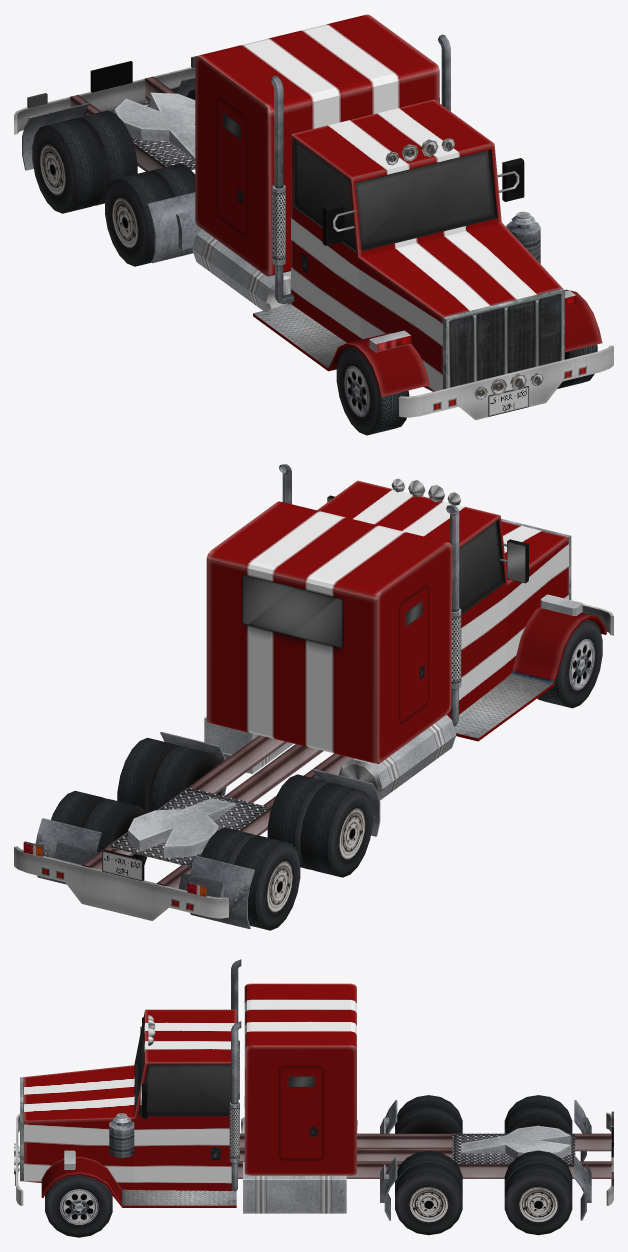
Rendered from empty-truck.fbx.
3 views of the same model, one above another, from view 1: azimuth 30°, elevation 25°; view 2: azimuth 150°, elevation 25°; view 3: azimuth 270°, elevation 25° (orthographic). The views are drawn at different scales.
Parts seen in each view (by area): view 1: body, GLASSES, BACK_RIGHT_TYRES, BACK_RIGHT_MEDDIL_TYRES, FRENT_RIGHT_TYRE; view 2: body, BACK_RIGHT_MEDDIL_TYRES, BACK_RIGHT_TYRES, BACK_LEFT_MEDDIL_TYRES, FRENT_RIGHT_TYRE, GLASSES, BACK_LEFT_TYRES; view 3: body, GLASSES, BACK_LEFT_TYRES, BACK_LEFT_MEDDIL_TYRES, FRENT_LEFT_TYRE, BACK_RIGHT_MEDDIL_TYRES, BACK_RIGHT_TYRES.
Boxes of the visible parts, <box> form: body: <box>14,14,613,420</box>; GLASSES: <box>293,139,497,252</box>; BACK_RIGHT_TYRES: <box>32,110,137,213</box>; BACK_RIGHT_MEDDIL_TYRES: <box>105,163,195,266</box>; FRENT_RIGHT_TYRE: <box>336,347,409,435</box>; body: <box>14,464,613,929</box>; BACK_RIGHT_MEDDIL_TYRES: <box>267,774,372,877</box>; BACK_RIGHT_TYRES: <box>201,827,300,930</box>; BACK_LEFT_MEDDIL_TYRES: <box>117,737,222,813</box>; FRENT_RIGHT_TYRE: <box>537,619,602,708</box>; GLASSES: <box>459,519,505,614</box>; BACK_LEFT_TYRES: <box>51,790,147,864</box>; body: <box>14,959,613,1220</box>; GLASSES: <box>135,1016,230,1116</box>; BACK_LEFT_TYRES: <box>504,1150,572,1235</box>; BACK_LEFT_MEDDIL_TYRES: <box>395,1150,462,1235</box>; FRENT_LEFT_TYRE: <box>45,1175,112,1237</box>; BACK_RIGHT_MEDDIL_TYRES: <box>395,1095,462,1133</box>; BACK_RIGHT_TYRES: <box>504,1095,572,1133</box>.
Size of the model in its own units: 11.88 by 13.95 by 36.7.
